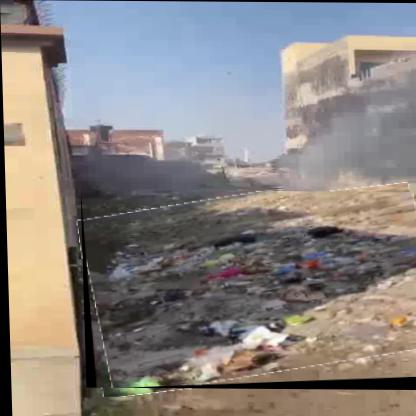Garbage: (80, 190, 416, 392)
